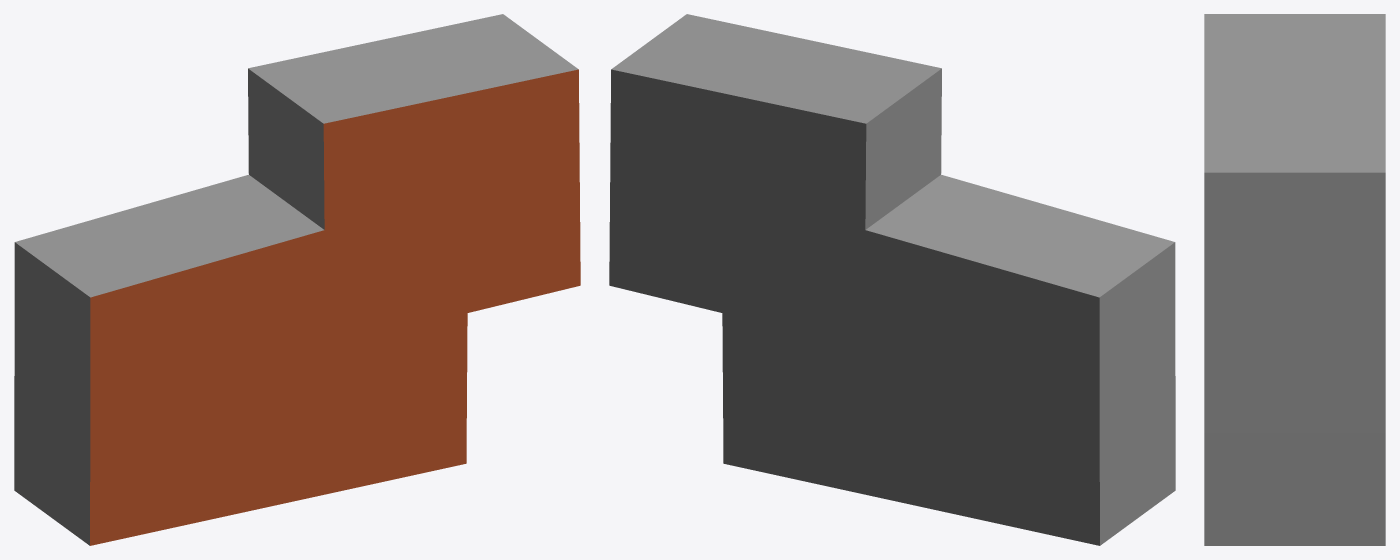
File: construction_2522_assumed_A_Casa_h6m.obj
3 renders of one model, left to right at view 1: azimuth 30°, elevation 25°; view 2: azimuth 150°, elevation 25°; view 3: azimuth 270°, elevation 25°, orthographic. The views are drawn at different scales.
Visible parts, largest first — view 1: construction_2522_assumed_A_Casa; view 2: construction_2522_assumed_A_Casa; view 3: construction_2522_assumed_A_Casa.
Part boxes in pixels (<box>): construction_2522_assumed_A_Casa: <box>14,14,580,545</box>; construction_2522_assumed_A_Casa: <box>609,14,1175,545</box>; construction_2522_assumed_A_Casa: <box>1204,14,1385,545</box>.
Size of the model in its own units: 22.44 by 16.38 by 6.
